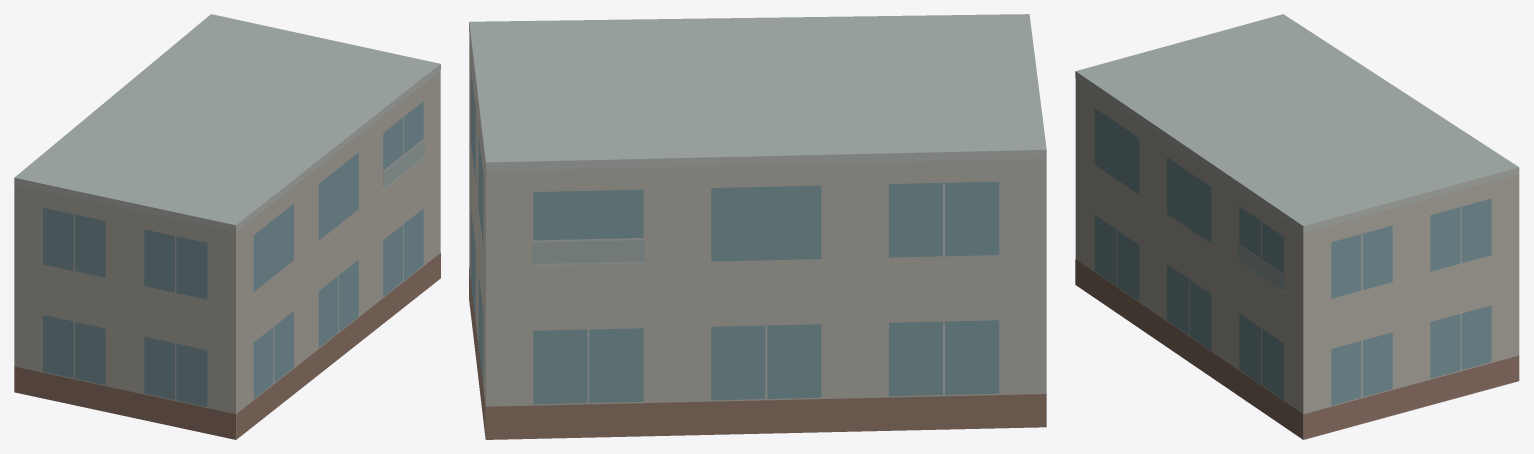
File: survey-upis-32621836.glb
3 views of the same model, side by side, from view 1: azimuth 30°, elevation 25°; view 2: azimuth 150°, elevation 25°; view 3: azimuth 270°, elevation 25° (orthographic). The views are drawn at different scales.
Visible parts, largest first — view 1: survey-upis-32621836.tmp; view 2: survey-upis-32621836.tmp; view 3: survey-upis-32621836.tmp.
Part boxes in pixels (x1,y1,x2,y2): survey-upis-32621836.tmp: (14, 14, 440, 439); survey-upis-32621836.tmp: (469, 14, 1046, 439); survey-upis-32621836.tmp: (1075, 14, 1519, 439).
Bounding box in the file's own units: 16.62 × 7.8 × 14.69.
